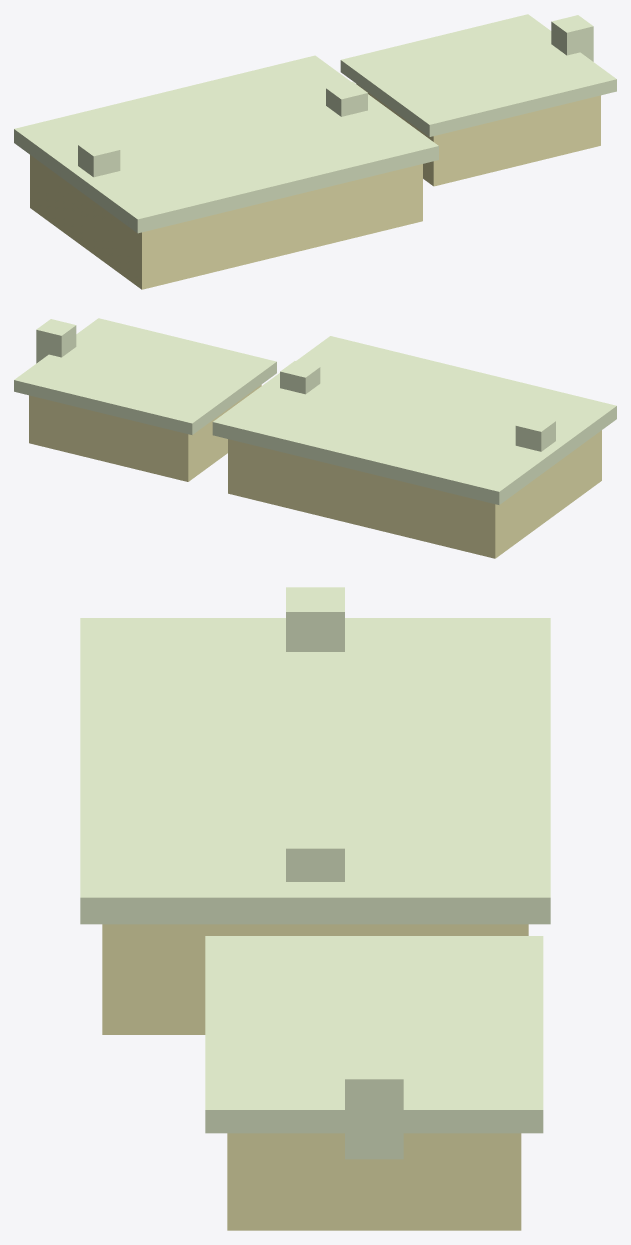
File: furniture_utility_handhole_cluster.glb
3 renders of one model, top to bottom at view 1: azimuth 30°, elevation 25°; view 2: azimuth 150°, elevation 25°; view 3: azimuth 270°, elevation 25°, orthographic. The views are drawn at different scales.
Visible parts, largest first — view 1: lid_large, box_large, lid_small, box_small, conduit_stub_right, conduit_stub_left, conduit_stub_center; view 2: lid_large, box_large, lid_small, box_small, conduit_stub_right, conduit_stub_left, conduit_stub_center; view 3: lid_large, lid_small, box_small, box_large, conduit_stub_right, conduit_stub_left, conduit_stub_center.
Part boxes in pixels (box(x1,y1,x2,y2)): lid_large: box(14, 55, 438, 233); box_large: box(30, 155, 422, 289); lid_small: box(340, 14, 616, 136); box_small: box(356, 84, 600, 186); conduit_stub_right: box(551, 15, 593, 61); conduit_stub_left: box(78, 138, 120, 177); conduit_stub_center: box(326, 81, 367, 116); lid_large: box(212, 336, 616, 504); box_large: box(228, 430, 601, 558); lid_small: box(14, 318, 276, 434); box_small: box(29, 384, 261, 481); conduit_stub_right: box(36, 319, 76, 363); conduit_stub_left: box(515, 415, 555, 451); conduit_stub_center: box(280, 361, 320, 394); lid_large: box(80, 618, 550, 924); lid_small: box(205, 936, 543, 1133); box_small: box(227, 1133, 521, 1230); box_large: box(102, 924, 528, 1034); conduit_stub_right: box(345, 1054, 403, 1159); conduit_stub_left: box(286, 587, 344, 651); conduit_stub_center: box(286, 824, 344, 881).
Bounding box in the file's own units: 1.57 × 0.28 × 0.64.
